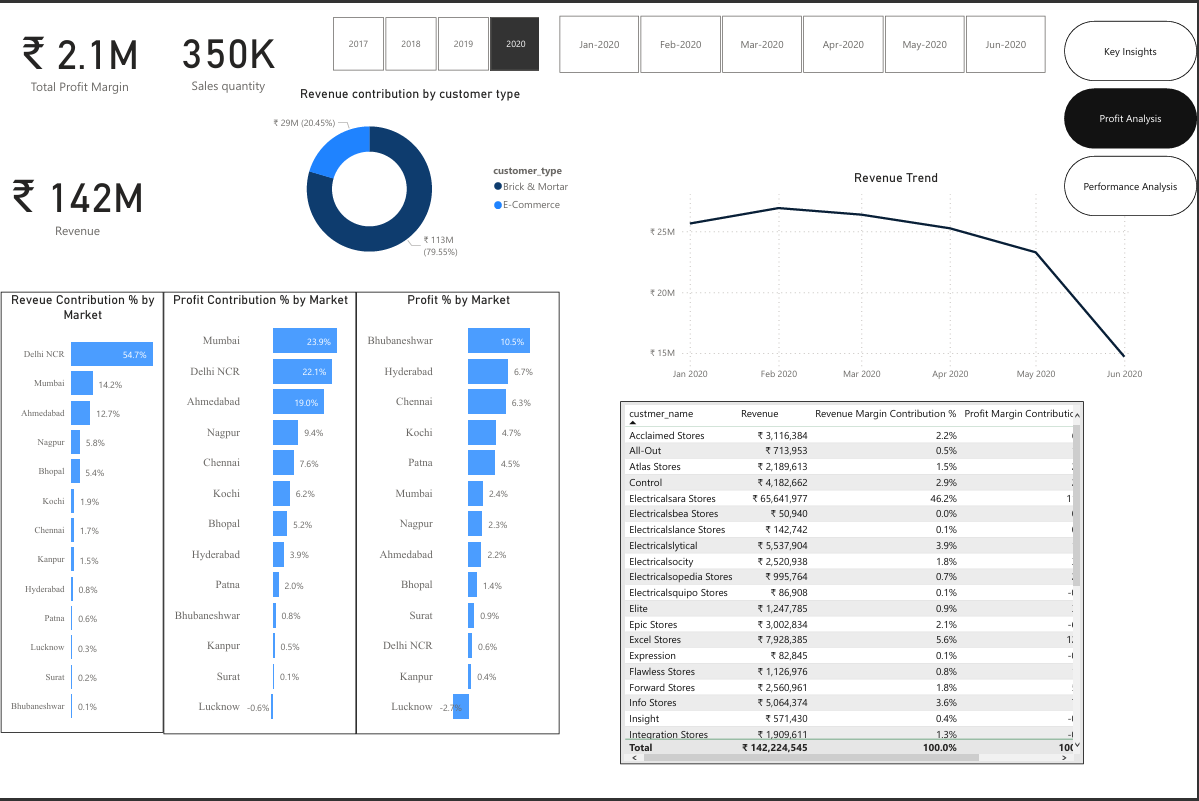

The page's visual inventory and layout, read from the dashboard file:
{"tool":"powerbi","page":{"name":"Profit Analysis","canvas":[1600,1050],"ordinal":1},"visuals":[{"type":"card","fields":{"Values":["Base measure.Total Profit Margin"]},"box":[0,2.2,221.4,130.7],"z":0},{"type":"barChart","title":"Profit % by Market","fields":{"Category":["sales markets.markets_name"],"Y":["Base measure.Profit margin %"]},"box":[479,379.9,271.3,589.9],"z":1000},{"type":"slicer","fields":{"Values":["sales date.year"]},"box":[422.4,7.1,328,84.9],"z":2000},{"type":"slicer","fields":{"Values":["sales date.cy_date"]},"box":[724.4,4.7,698.4,89.7],"z":3000},{"type":"barChart","title":"Profit Contribution % by Market","fields":{"Category":["sales markets.markets_name"],"Y":["Base measure.Profit Margin Contribution %"]},"box":[221.8,379.9,257.2,589.9],"z":4000},{"type":"barChart","title":"Reveue Contribution % by Market","fields":{"Category":["sales markets.markets_name"],"Y":["Base measure.Revenue Margin Contribution %"]},"box":[4.7,379.9,217.1,587.5],"z":5000},{"type":"tableEx","title":"Top 5 Customers by Revenue","fields":{"Values":["sales customers.custmer_name","Base measure.Revenue","Base measure.Revenue Margin Contribution %","Base measure.Profit Margin Contribution %","Base measure.Profit margin %"]},"box":[830.6,526.2,618.2,483.7],"z":6000},{"type":"donutChart","title":"Revenue contribution by customer type","fields":{"Y":["Base measure.Revenue"],"Category":["sales customers.customer_type"]},"box":[325.5,106.3,449.6,254.7],"z":7000},{"type":"lineChart","title":"Revenue Trend","fields":{"Y":["Base measure.Revenue"],"Category":["sales date.cy_date.Variation.Date Hierarchy.Year","sales date.cy_date.Variation.Date Hierarchy.Quarter","sales date.cy_date.Variation.Date Hierarchy.Month","sales date.cy_date.Variation.Date Hierarchy.Day"]},"box":[865.2,218,667.4,289.9],"z":8000},{"type":"card","fields":{"Values":["Base measure.Revenue"]},"box":[0,177.2,214.8,163.9],"z":9000},{"type":"card","fields":{"Values":["Base measure.Sales quantity"]},"box":[221.4,0,174.9,132.9],"z":10000},{"type":"pageNavigator","box":[1422.8,18.9,177,260],"z":11000}]}

Visuals, with their boxes in screenshot pixels (x1, y1, x2, y2), scaled from the page's 1600x1050 canvas onto the 1199x801 screenshot:
card - Base measure.Total Profit Margin: <region>0, 2, 166, 101</region>
"Profit % by Market" barChart: <region>359, 290, 562, 740</region>
slicer - sales date.year: <region>317, 5, 562, 70</region>
slicer - sales date.cy_date: <region>543, 4, 1066, 72</region>
"Profit Contribution % by Market" barChart: <region>166, 290, 359, 740</region>
"Reveue Contribution % by Market" barChart: <region>4, 290, 166, 738</region>
"Top 5 Customers by Revenue" tableEx: <region>622, 401, 1086, 770</region>
"Revenue contribution by customer type" donutChart: <region>244, 81, 581, 275</region>
"Revenue Trend" lineChart: <region>648, 166, 1148, 387</region>
card - Base measure.Revenue: <region>0, 135, 161, 260</region>
card - Base measure.Sales quantity: <region>166, 0, 297, 101</region>
pageNavigator: <region>1066, 14, 1198, 213</region>
